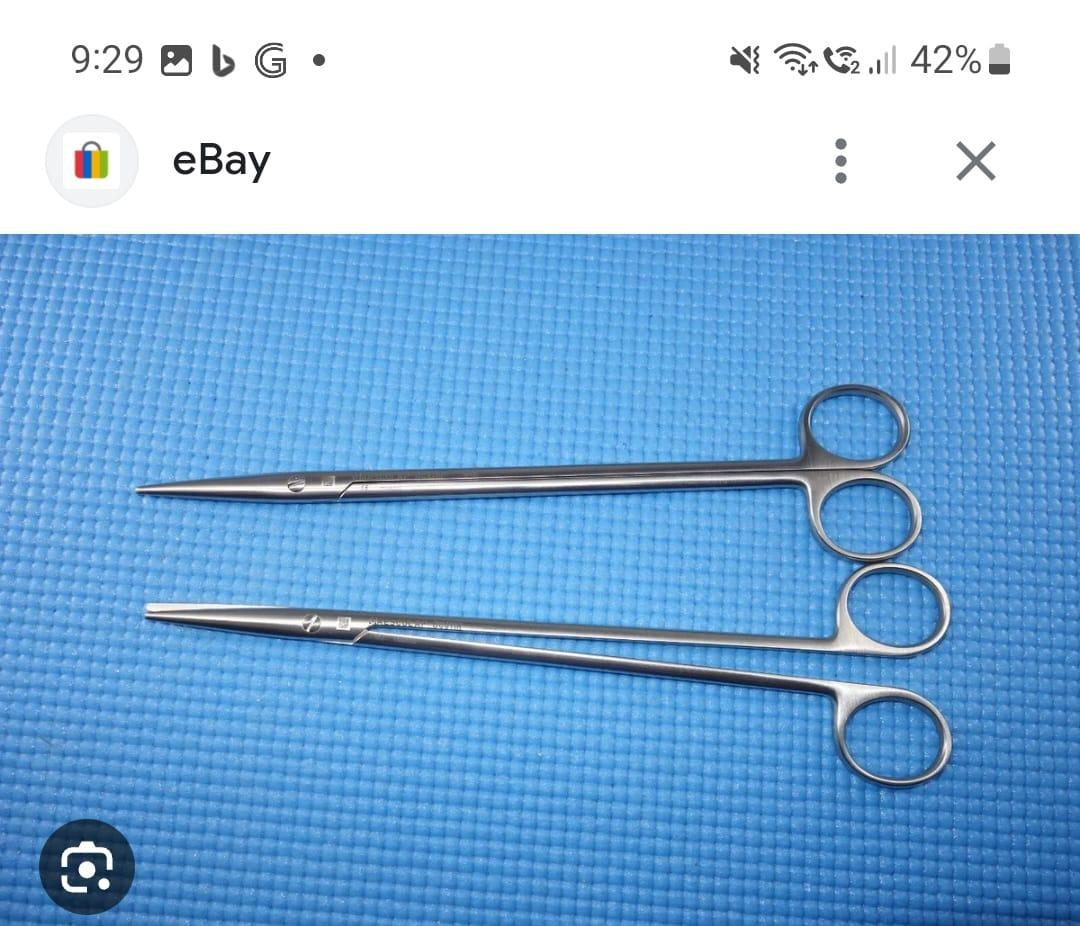Metzenbaum Sciccors: (141, 560, 961, 787), (124, 363, 943, 566)
